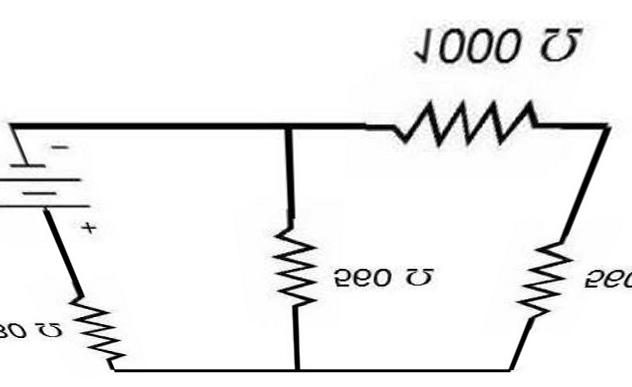resistor: (377, 90, 555, 163), (527, 217, 579, 340), (56, 282, 133, 364), (264, 221, 320, 310)
